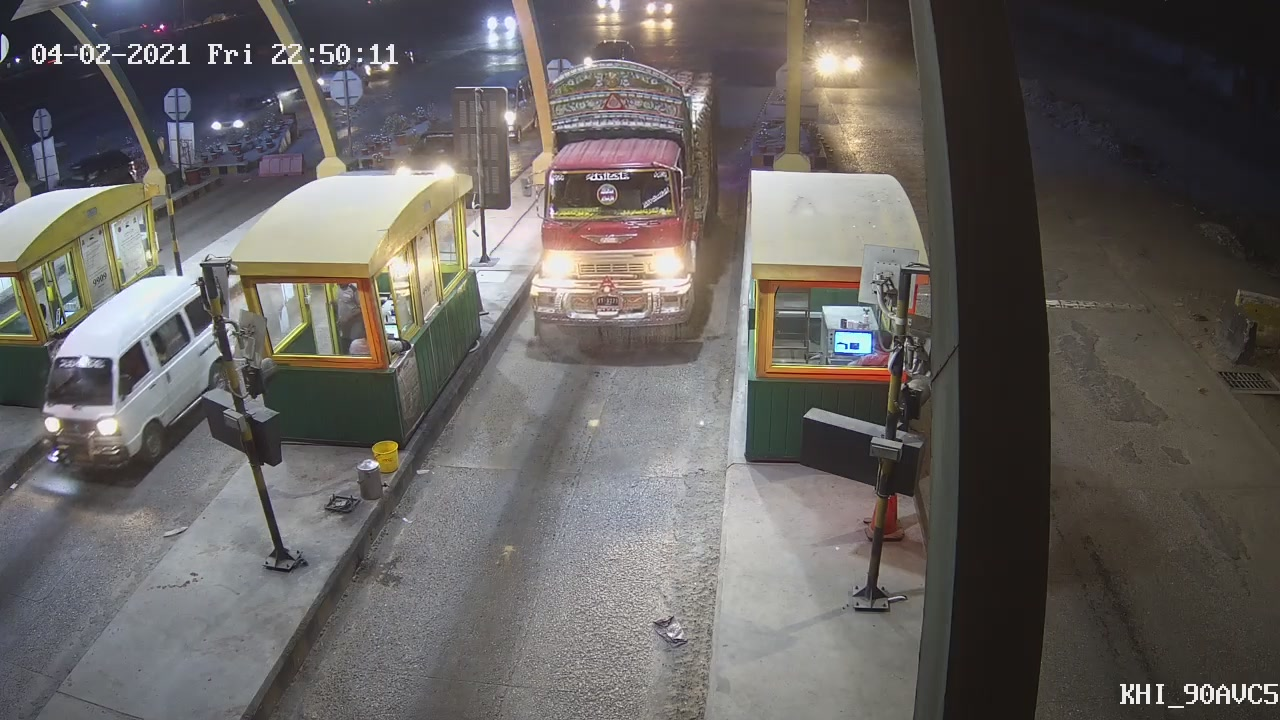F6: (514, 57, 721, 349)
